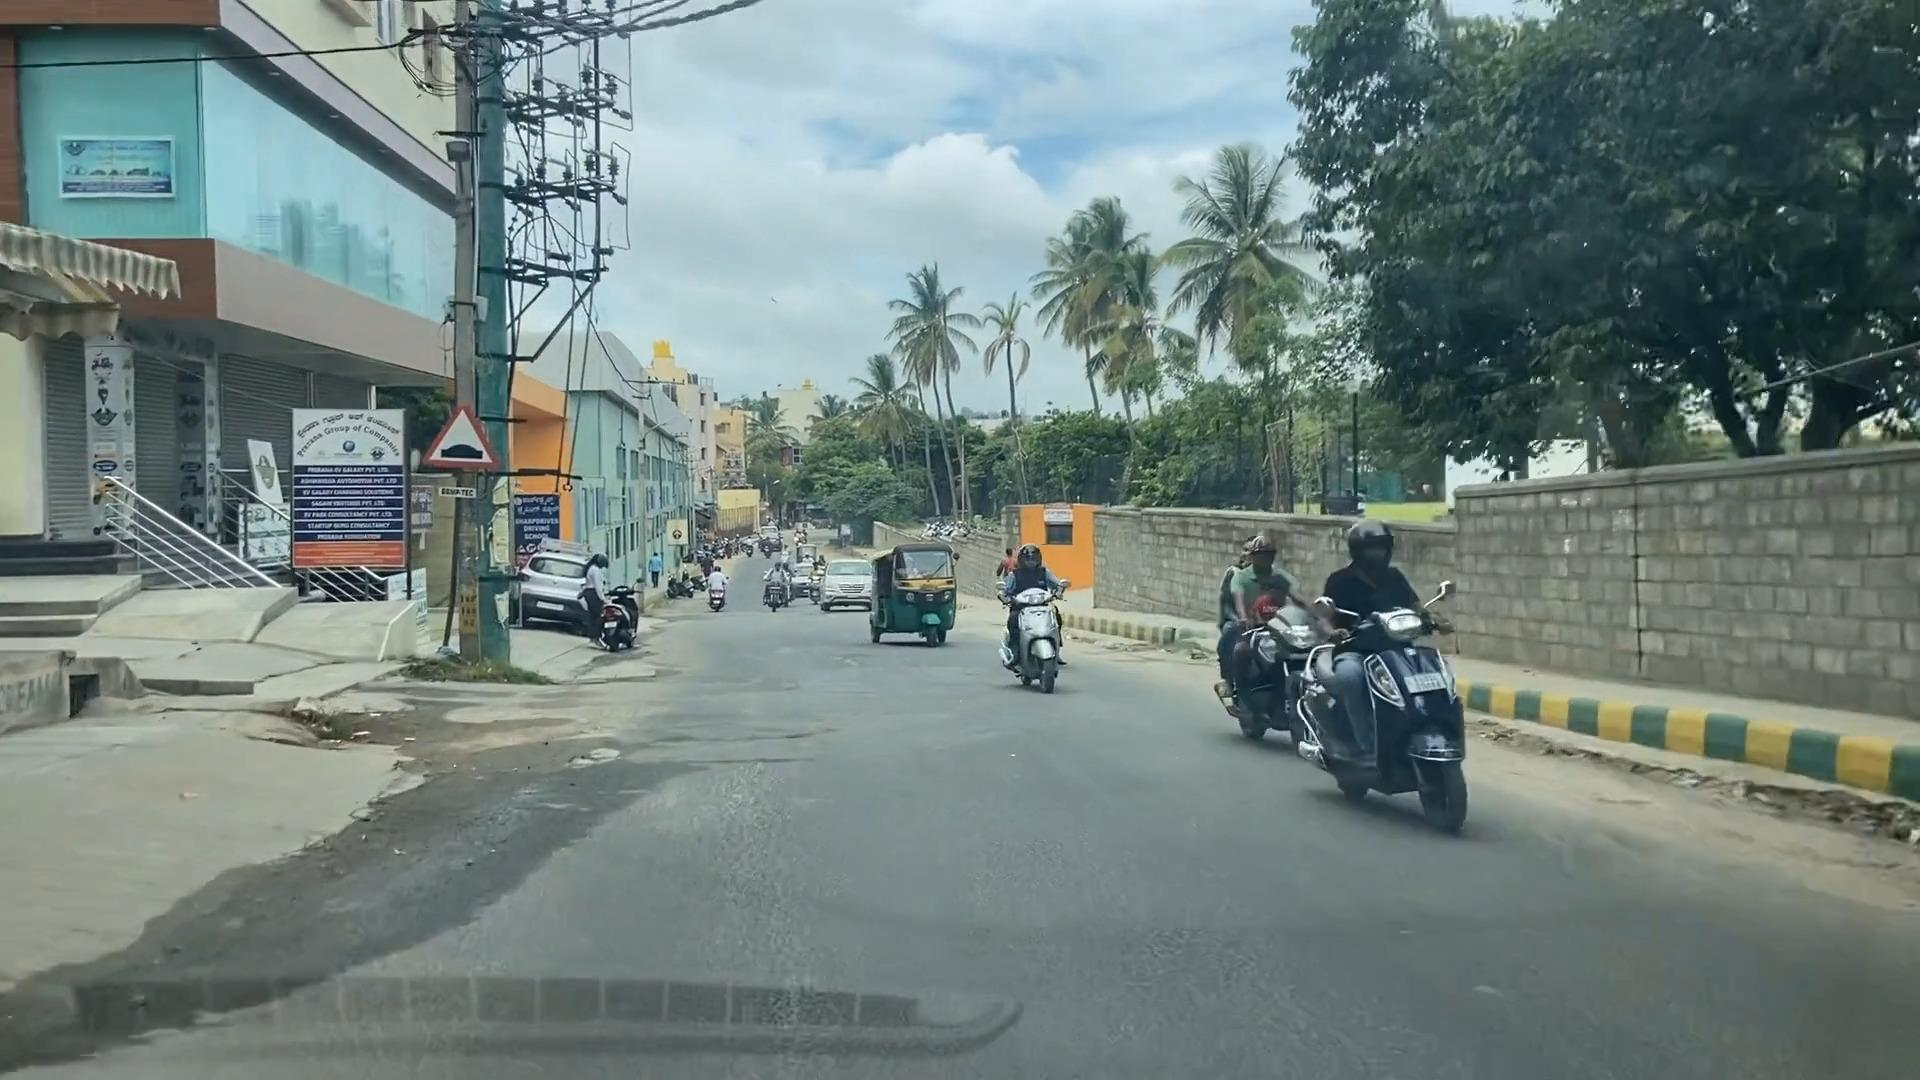LMV: (869, 537, 976, 670)
RoadDamages: (468, 728, 752, 856)
